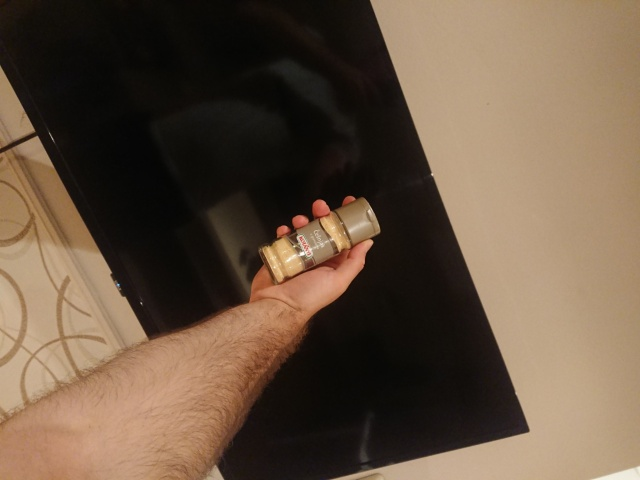Kotanyi Garlic Granules 70g: (255, 194, 383, 288)
